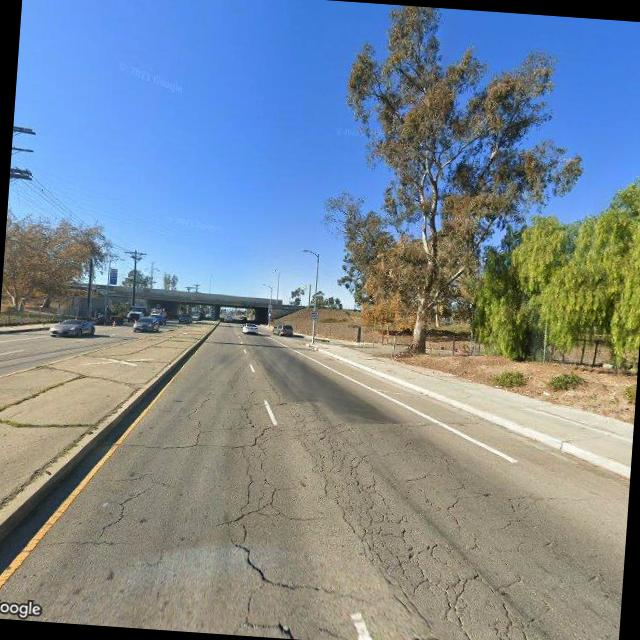crack: (96, 375, 610, 640)
